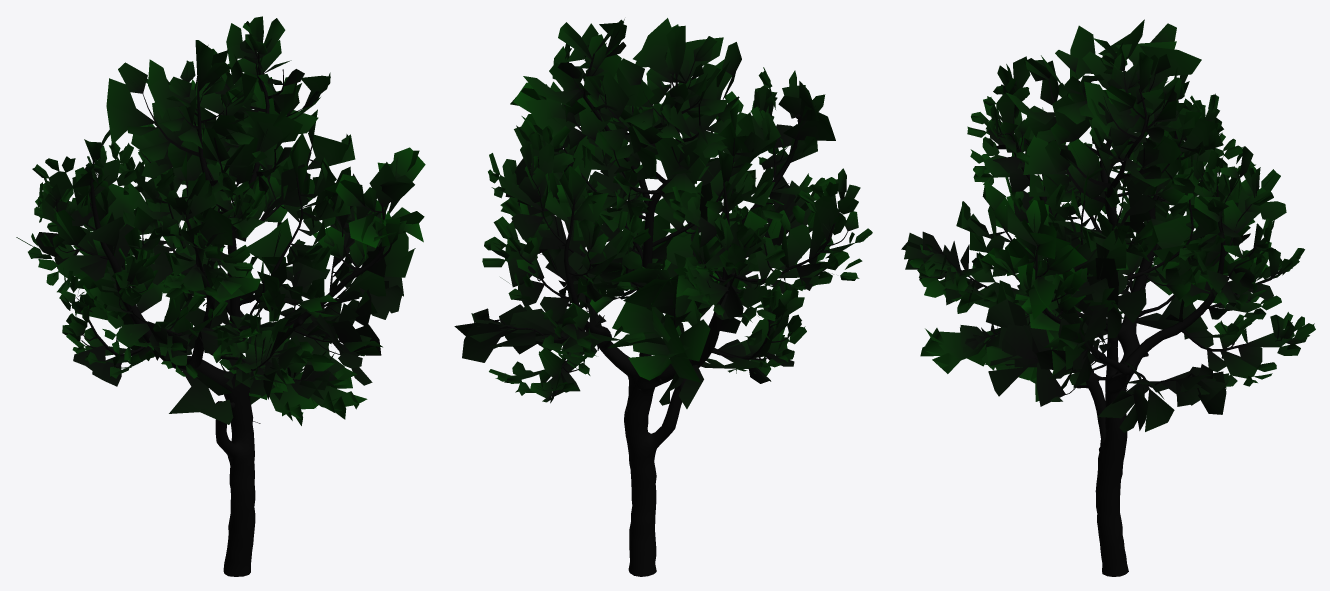
Rendered from Pine_beach_04_A.fbx.
3 views of the same model, side by side, from view 1: azimuth 30°, elevation 25°; view 2: azimuth 150°, elevation 25°; view 3: azimuth 270°, elevation 25° (orthographic). The views are drawn at different scales.
Visible parts, largest first — view 1: pine_beach_04_A_LOD0; view 2: pine_beach_04_A_LOD0; view 3: pine_beach_04_A_LOD0.
Boxes of the visible parts, x1,y1,x2,y2 form: pine_beach_04_A_LOD0: [16, 16, 425, 576]; pine_beach_04_A_LOD0: [454, 18, 872, 576]; pine_beach_04_A_LOD0: [901, 19, 1315, 576].
Size of what is drawn, in the model's own units: 350 by 528 by 370.
